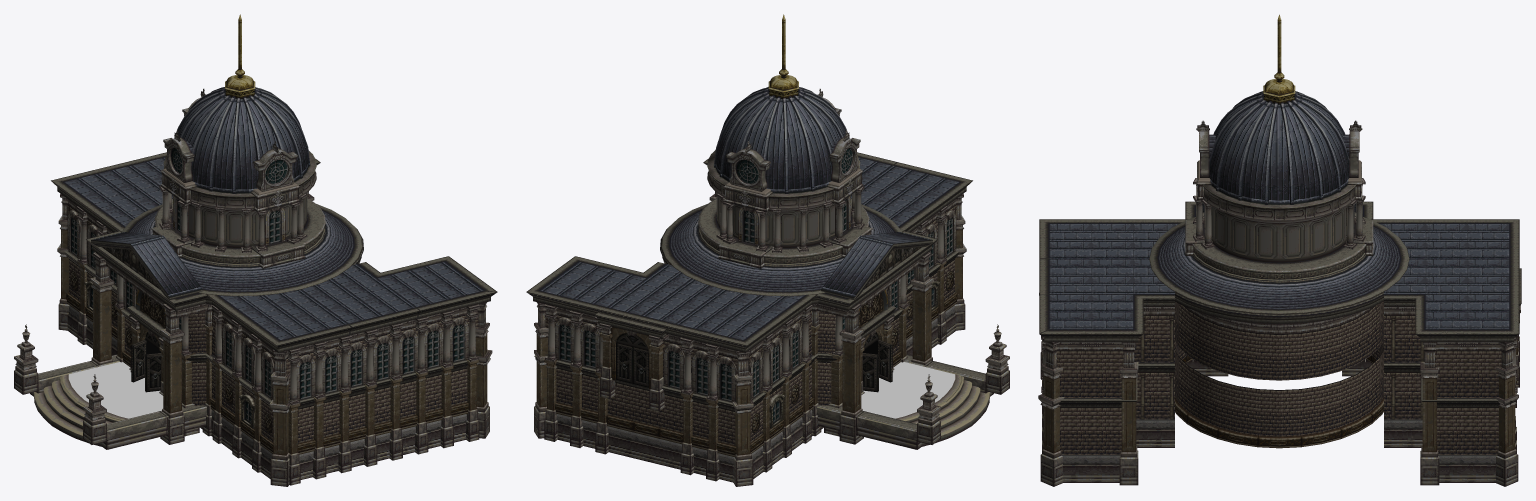
File: EnvBdgMD_LargeLibrary_A_Outdoor.FBX
The picture shows the model from 3 angles, left to right: view 1: azimuth 30°, elevation 25°; view 2: azimuth 150°, elevation 25°; view 3: azimuth 270°, elevation 25°; orthographic projection. The views are drawn at different scales.
Parts seen in each view (by area): view 1: EnvBdgMD_LargeLibrary_A_Outdoor; view 2: EnvBdgMD_LargeLibrary_A_Outdoor; view 3: EnvBdgMD_LargeLibrary_A_Outdoor.
Boxes of the visible parts, x1=… form: EnvBdgMD_LargeLibrary_A_Outdoor: x1=14, y1=14, x2=497, y2=486; EnvBdgMD_LargeLibrary_A_Outdoor: x1=526, y1=14, x2=1009, y2=486; EnvBdgMD_LargeLibrary_A_Outdoor: x1=1038, y1=14, x2=1521, y2=486.
Bounding box in the file's own units: 1963 × 2105 × 2314.
